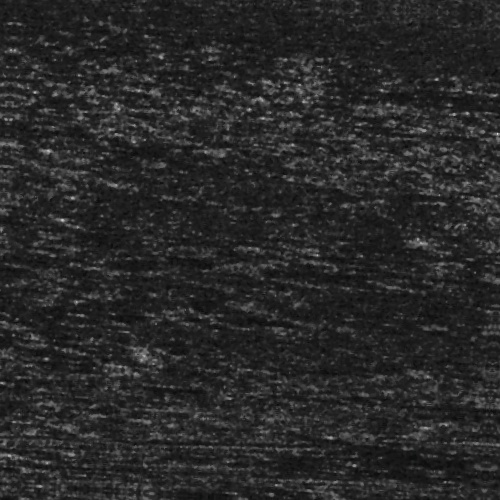object: (0, 462, 36, 471)
shadow: (244, 450, 500, 457), (316, 494, 500, 500)
